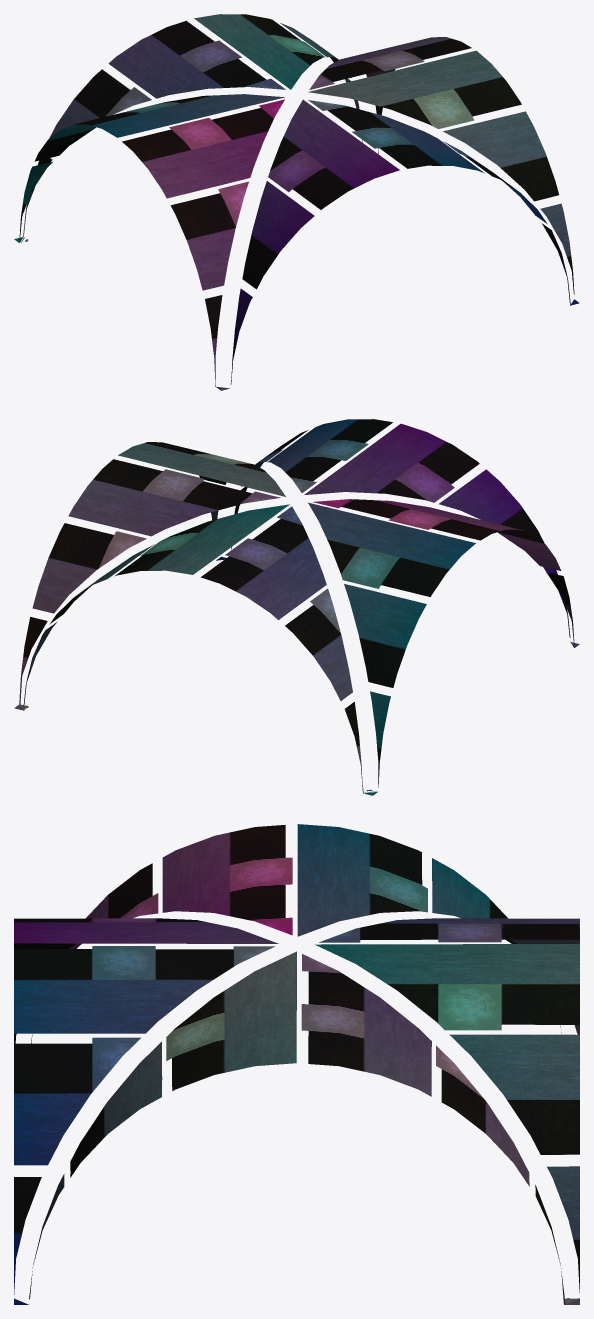
3 views of the same model, one above another, from view 1: azimuth 30°, elevation 25°; view 2: azimuth 150°, elevation 25°; view 3: azimuth 270°, elevation 25° (orthographic). The views are drawn at different scales.
Visible parts, largest first — view 1: SM_Roots_02_LOD0; view 2: SM_Roots_02_LOD0; view 3: SM_Roots_02_LOD0.
Part boxes in pixels (x1,y1,x2,y2): SM_Roots_02_LOD0: (14,14,579,390); SM_Roots_02_LOD0: (14,419,579,795); SM_Roots_02_LOD0: (14,824,579,1304).
Size of the model in its own units: 6 by 2.83 by 6.
